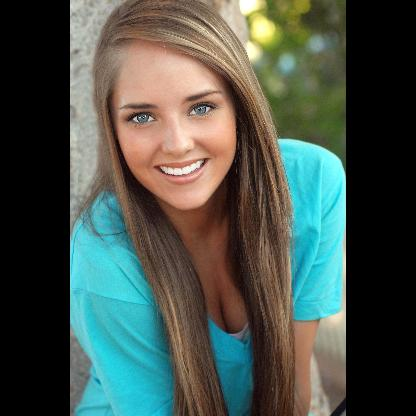Female: (115, 34, 239, 210)
